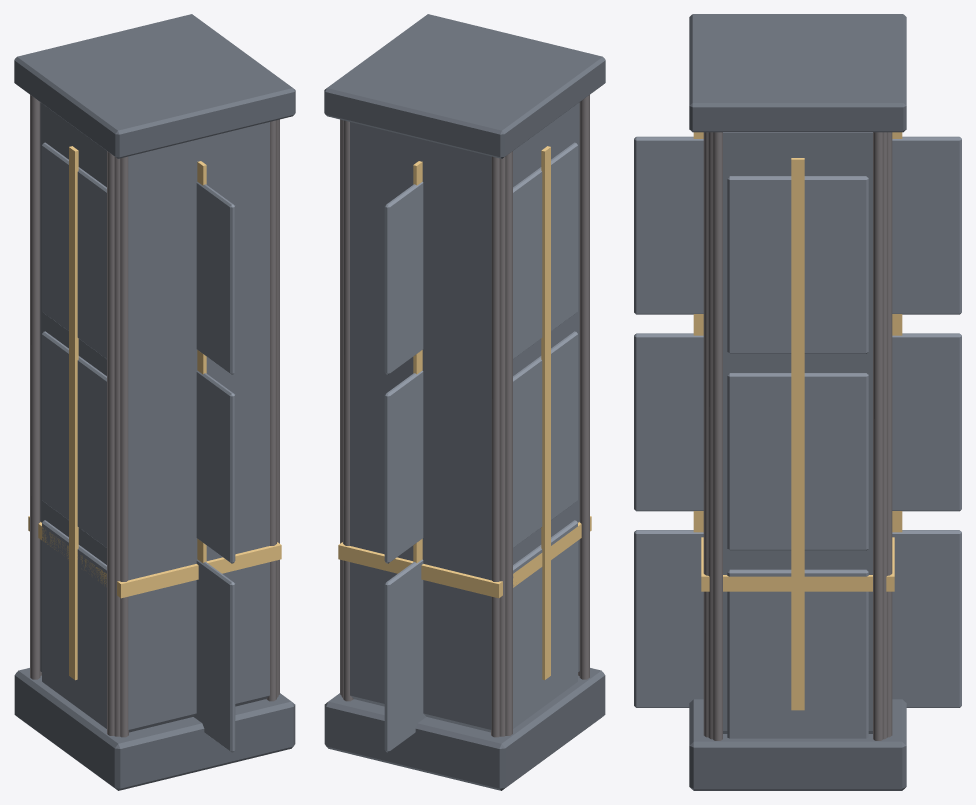
File: core_pillar.glb
3 renders of one model, left to right at view 1: azimuth 30°, elevation 25°; view 2: azimuth 150°, elevation 25°; view 3: azimuth 270°, elevation 25°, orthographic. The views are drawn at different scales.
Visible parts, largest first — view 1: slate, slate*0.001, slate*0.8, slate*1.008, slate*1.007, slate*1.006, slate*1.004, slate*1.005, slate*1.003, iron.002, iron.003, lit.002 (+7 smaller); view 2: slate, slate*0.001, slate*0.8, slate*1.008, slate*1.007, slate*1.006, slate*1.010, slate*1.011, slate*1.009, iron.005, iron, lit.002 (+7 smaller); view 3: slate*0.001, slate*1.001, slate*1.002, slate*1.25, slate, slate*0.8, slate*1.004, slate*1.010, slate*1.005, slate*1.011, slate*1.003, slate*1.009 (+8 smaller).
Boxes of the visible parts, <box> form: slate: <box>40,102,269,732</box>; slate*0.001: <box>14,14,295,158</box>; slate*0.8: <box>14,668,295,790</box>; slate*1.008: <box>42,142,106,358</box>; slate*1.007: <box>42,331,106,547</box>; slate*1.006: <box>42,520,106,728</box>; slate*1.004: <box>196,370,235,563</box>; slate*1.005: <box>196,182,235,374</box>; slate*1.003: <box>193,559,235,752</box>; iron.002: <box>30,95,40,679</box>; iron.003: <box>120,156,128,737</box>; lit.002: <box>69,146,78,680</box>; slate: <box>350,102,579,732</box>; slate*0.001: <box>324,14,605,158</box>; slate*0.8: <box>324,668,605,790</box>; slate*1.008: <box>513,142,577,358</box>; slate*1.007: <box>513,331,577,547</box>; slate*1.006: <box>513,520,577,728</box>; slate*1.010: <box>384,370,423,563</box>; slate*1.011: <box>384,182,423,374</box>; slate*1.009: <box>384,559,426,752</box>; iron.005: <box>579,95,589,679</box>; iron: <box>491,156,499,737</box>; lit.002: <box>541,146,550,680</box>; slate*0.001: <box>689,14,906,132</box>; slate*1.001: <box>727,373,868,550</box>; slate*1.002: <box>727,176,868,353</box>; slate*1.25: <box>727,569,868,738</box>; slate: <box>723,132,872,733</box>; slate*0.8: <box>689,699,906,790</box>; slate*1.004: <box>634,333,703,511</box>; slate*1.010: <box>892,333,961,511</box>; slate*1.005: <box>634,136,703,314</box>; slate*1.011: <box>892,136,961,314</box>; slate*1.003: <box>634,530,703,707</box>; slate*1.009: <box>892,530,961,707</box>.
Bounding box in the file's own units: 2 × 7 × 3.02.
